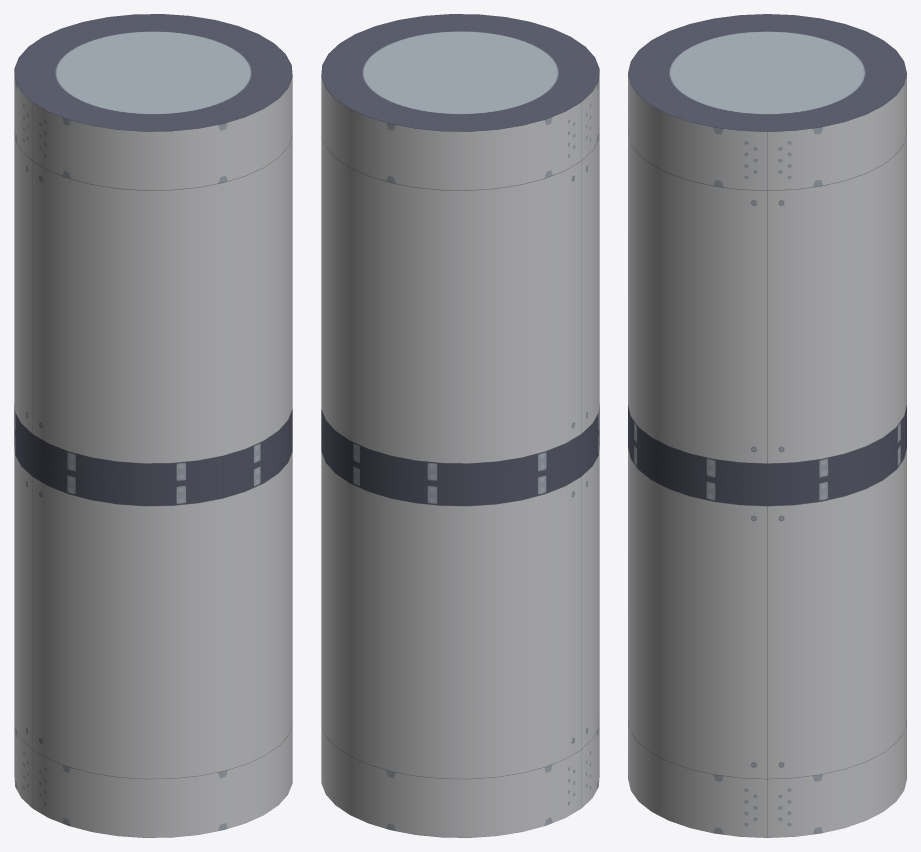
The model's file is Pipe_Tube_01.FBX.
3 views of the same model, side by side, from view 1: azimuth 30°, elevation 25°; view 2: azimuth 150°, elevation 25°; view 3: azimuth 270°, elevation 25° (orthographic).
Visible parts, largest first — view 1: Pipe_Tube_01; view 2: Pipe_Tube_01; view 3: Pipe_Tube_01.
Boxes of the visible parts, bbox=[...] form: Pipe_Tube_01: bbox=[14, 14, 292, 837]; Pipe_Tube_01: bbox=[321, 14, 599, 837]; Pipe_Tube_01: bbox=[628, 14, 906, 837].
Size of the model in its own units: 1.07 by 3 by 1.07.
